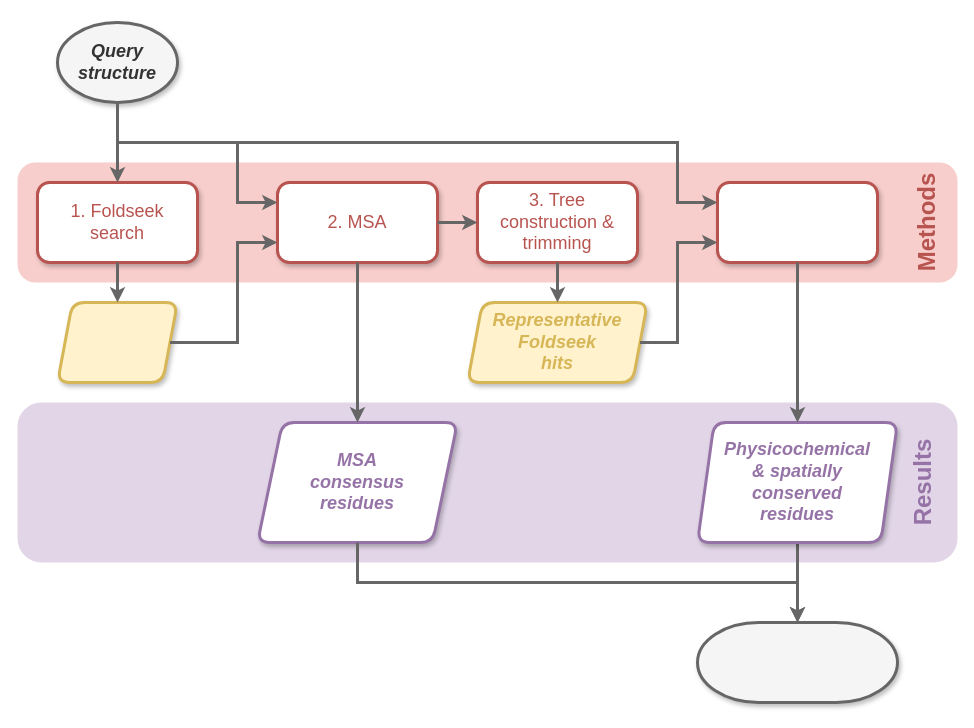
Image size: 974x728. Some labels were removed from this diagram. Here are the shapes that lost their labels. From the top down, the centre of each, then its label:
point (798, 223): 4. Pairwise MOMA2 alignment
point (118, 343): Foldseek hits
point (798, 663): Conservation & homology signal
